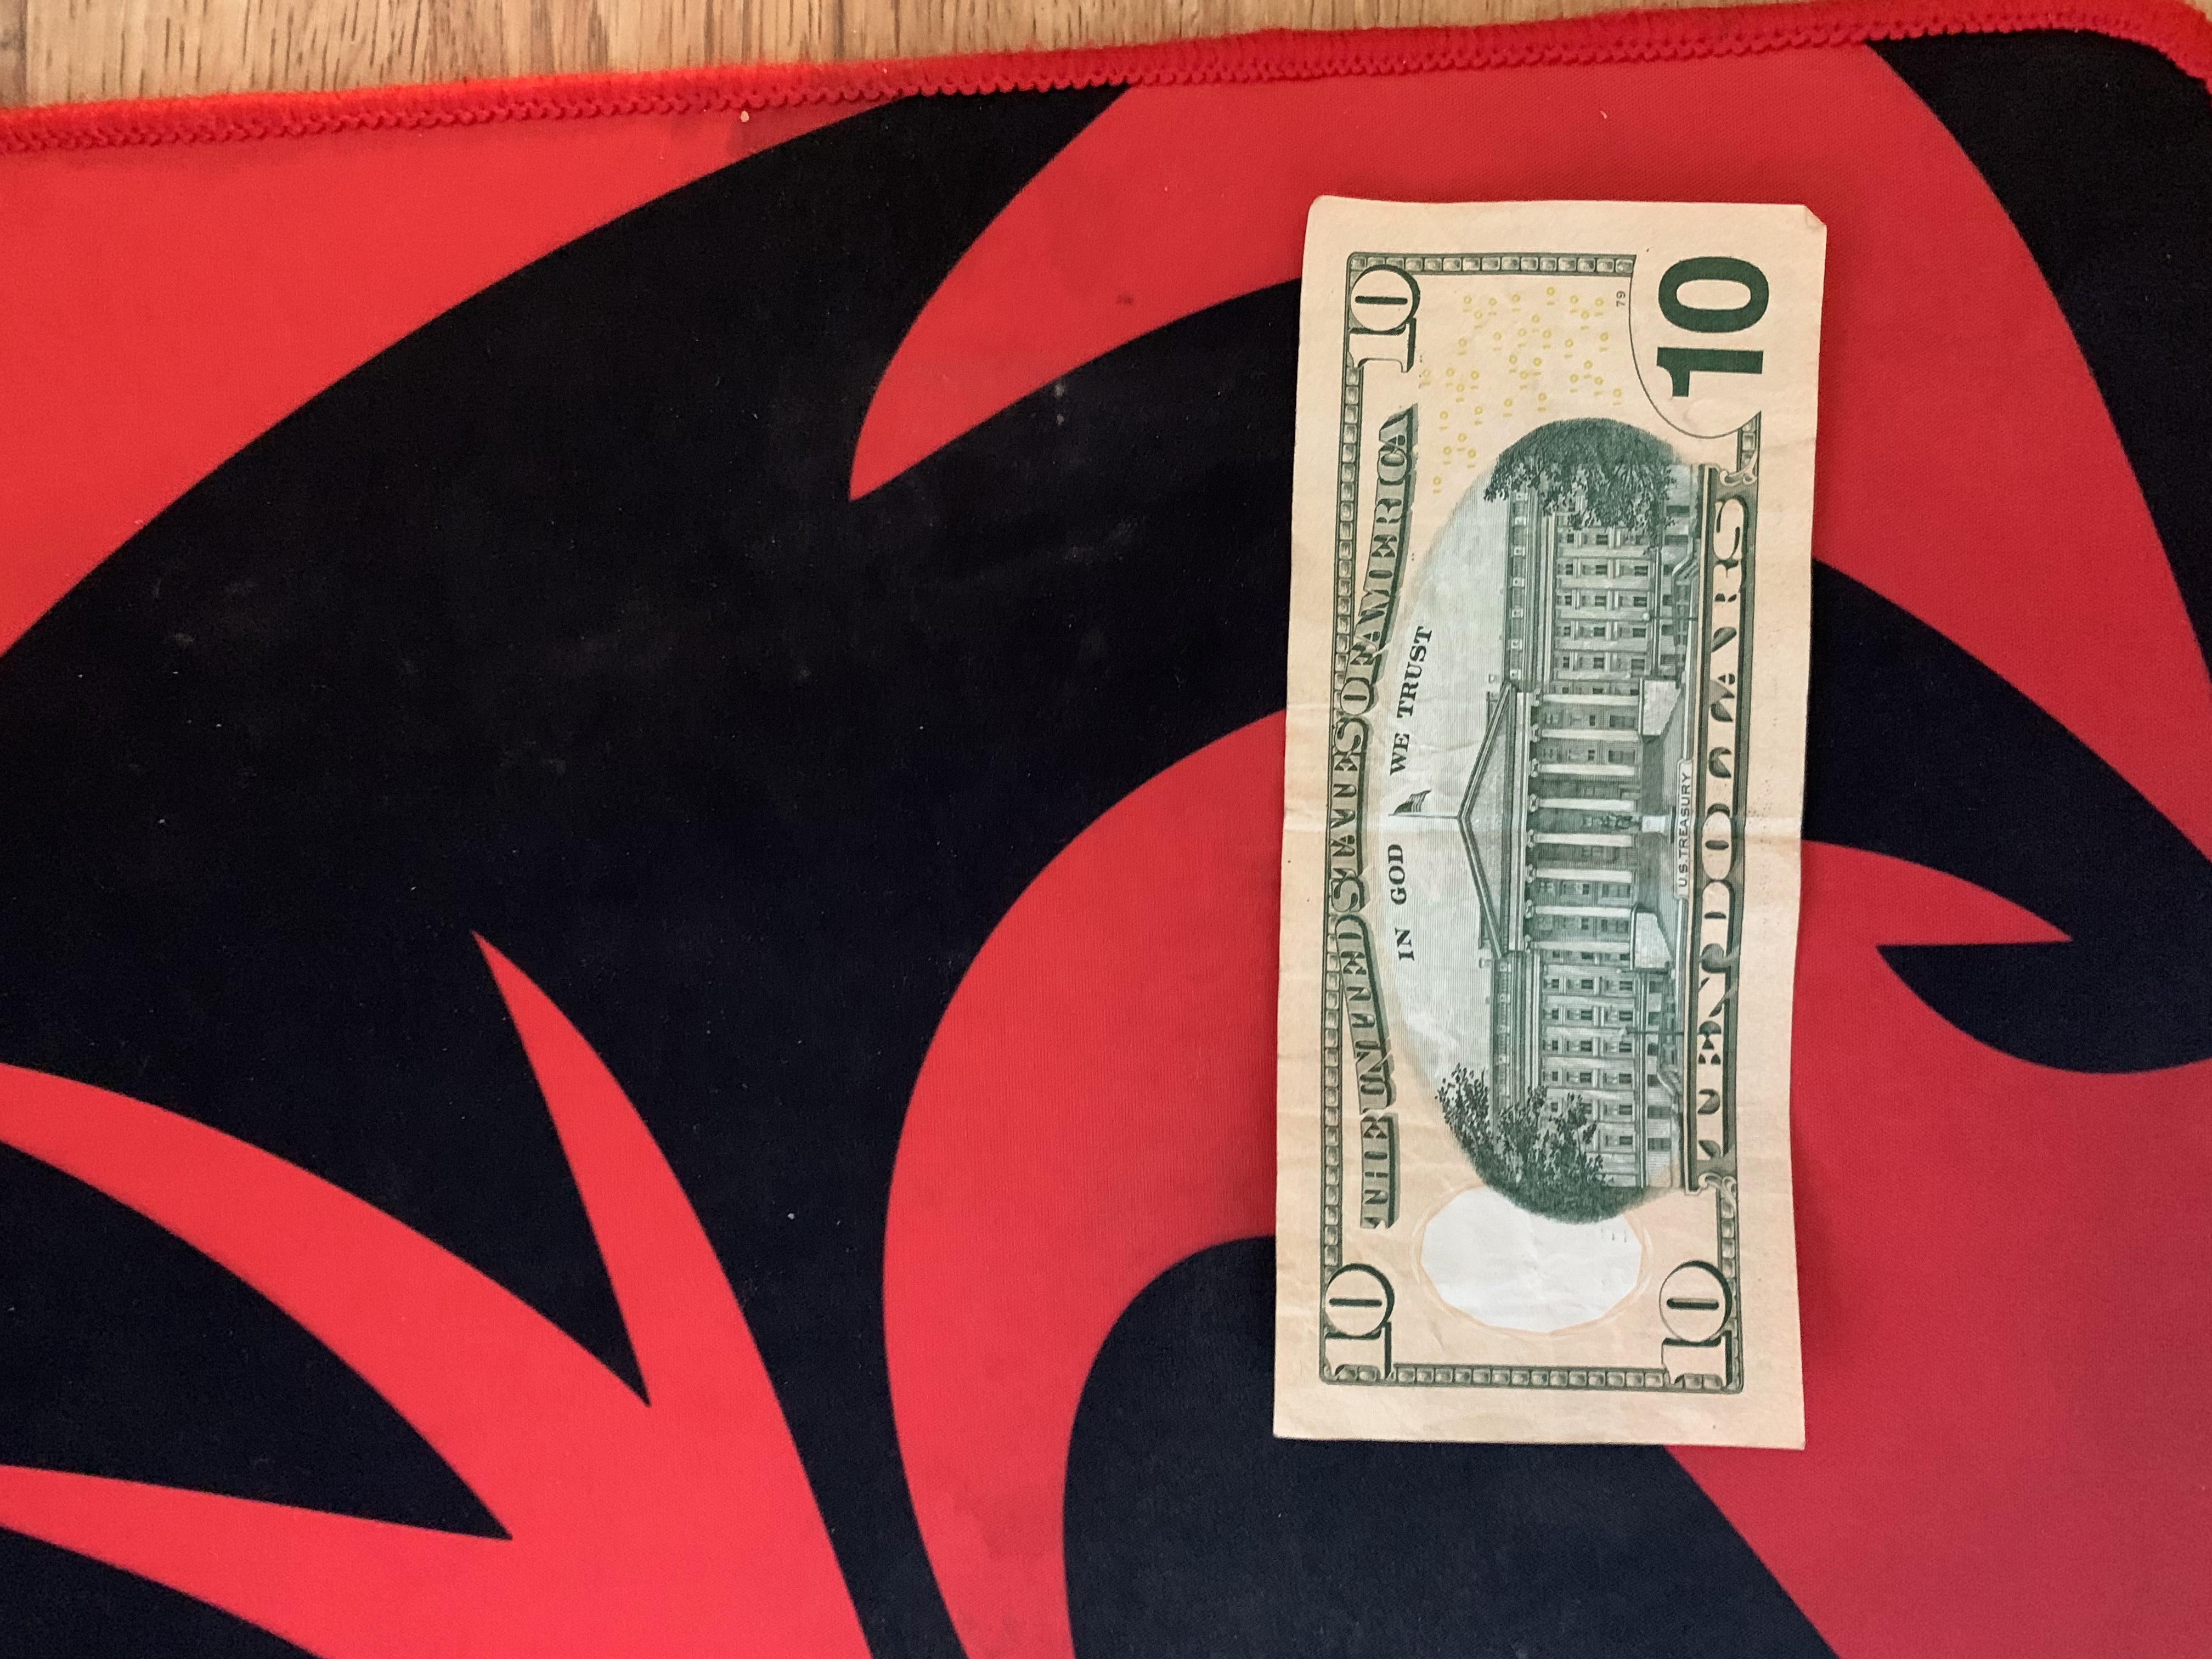TenBill: (1270, 185, 1853, 1445)
